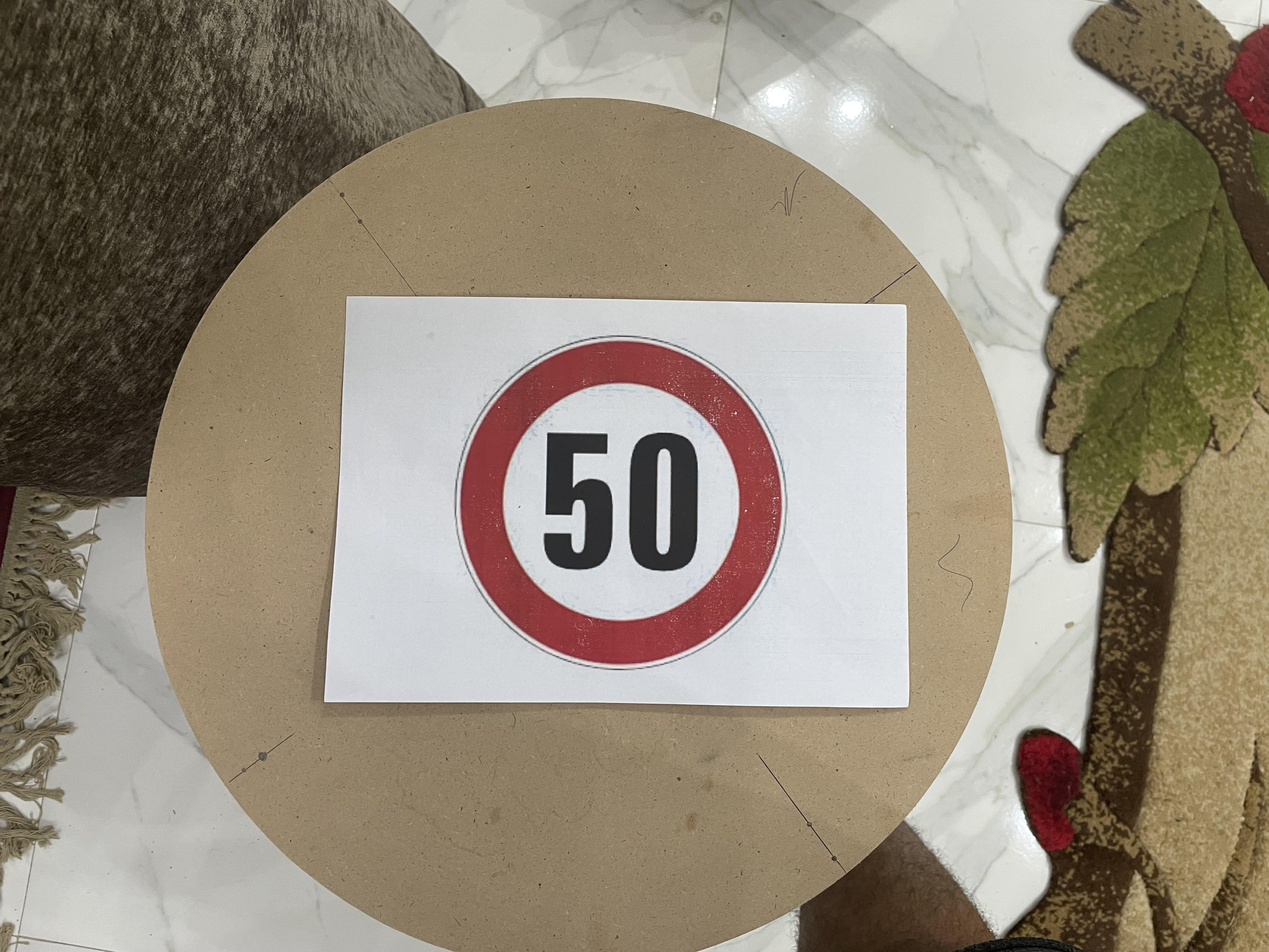50-Speed: (482, 287, 810, 606)
